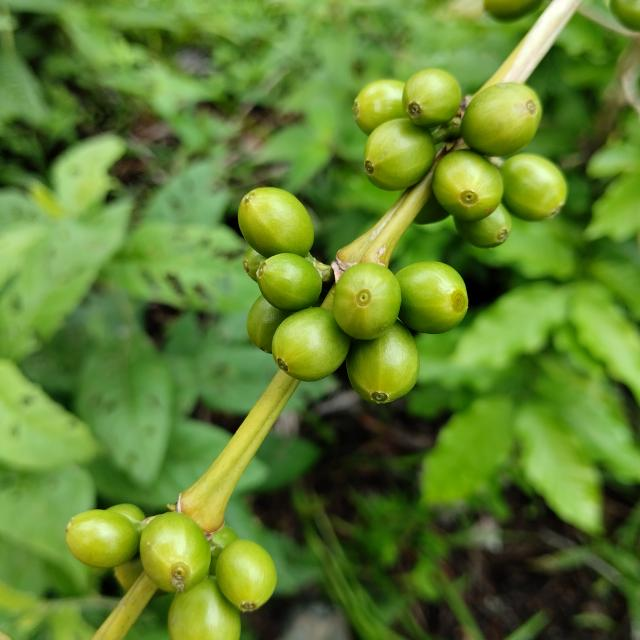green: (347, 320, 420, 404), (461, 82, 543, 156), (272, 307, 351, 382), (139, 513, 210, 594), (332, 262, 402, 340), (238, 187, 314, 258), (396, 261, 469, 334), (432, 149, 504, 222), (364, 118, 436, 190), (501, 153, 568, 221), (168, 578, 241, 640), (215, 540, 277, 613), (65, 510, 139, 569), (256, 253, 322, 311), (402, 68, 462, 127), (353, 79, 408, 135), (247, 295, 293, 353), (454, 203, 512, 248), (209, 527, 239, 559), (242, 247, 266, 282)
